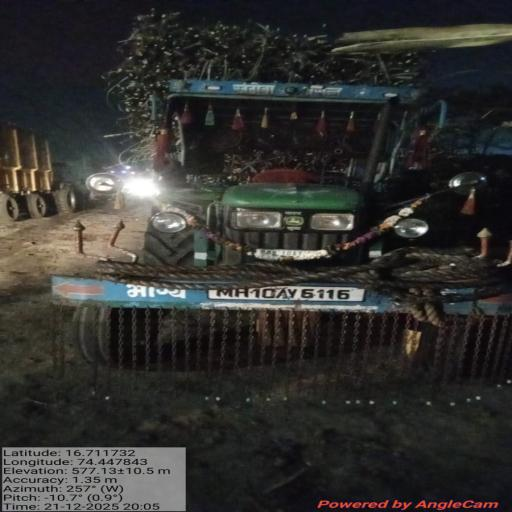number_plate: (199, 277, 376, 305)
